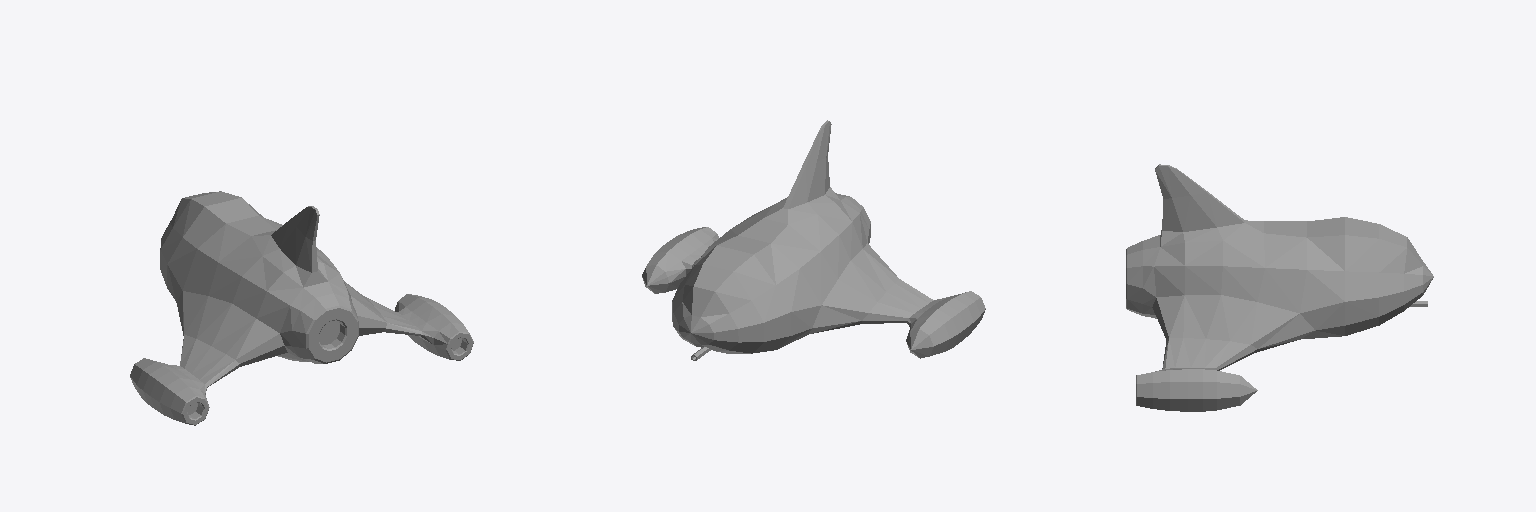
File: ship.obj
3 renders of one model, left to right at view 1: azimuth 30°, elevation 25°; view 2: azimuth 150°, elevation 25°; view 3: azimuth 270°, elevation 25°, orthographic.
Parts seen in each view (by area): view 1: shipA; view 2: shipA; view 3: shipA.
Boxes of the visible parts, x1,y1,x2,y2 form: shipA: [130, 191, 473, 425]; shipA: [642, 120, 985, 360]; shipA: [1126, 164, 1433, 411].
Bounding box in the file's own units: 69.93 × 40 × 61.48.